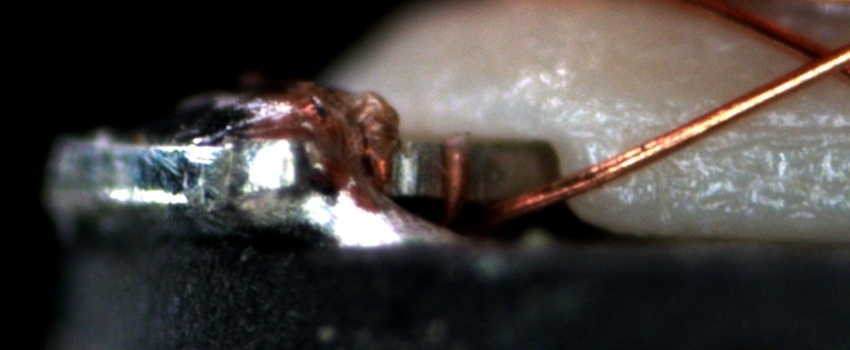CL: (782, 32, 848, 87)
DL: (695, 97, 849, 158)
TE: (361, 135, 473, 228)
